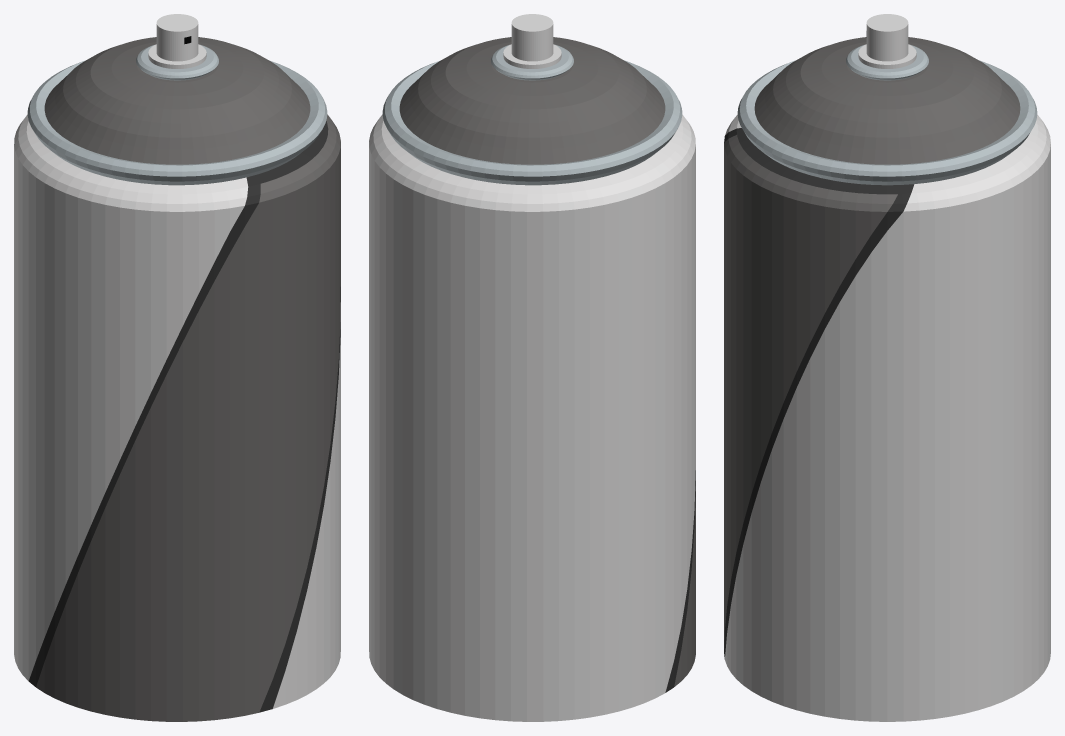
File: Spray.fbx
3 views of the same model, side by side, from view 1: azimuth 30°, elevation 25°; view 2: azimuth 150°, elevation 25°; view 3: azimuth 270°, elevation 25° (orthographic).
Parts seen in each view (by area): view 1: Cylinder; view 2: Cylinder; view 3: Cylinder.
Part boxes in pixels (box(x1,y1,x2,y2)): Cylinder: box(14, 14, 340, 721); Cylinder: box(369, 14, 695, 721); Cylinder: box(724, 14, 1050, 721).
Bounding box in the file's own units: 200 × 432 × 200.
